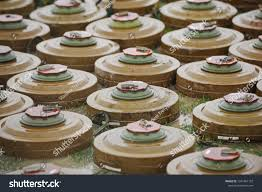car: (77, 75, 189, 127)
